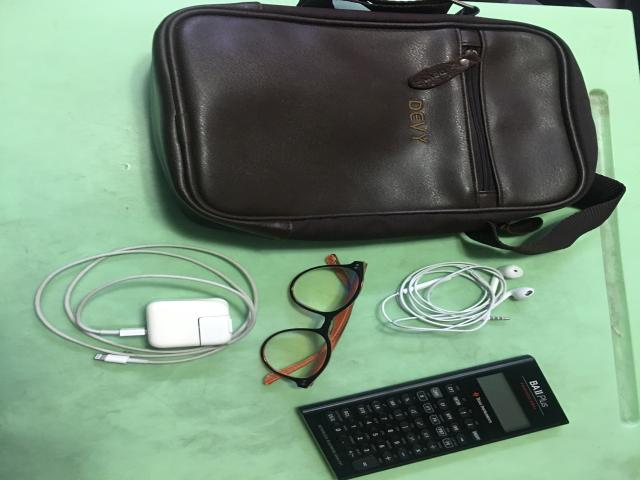Glasses: (260, 262, 367, 388)
wire: (35, 245, 257, 364), (382, 262, 533, 332)
